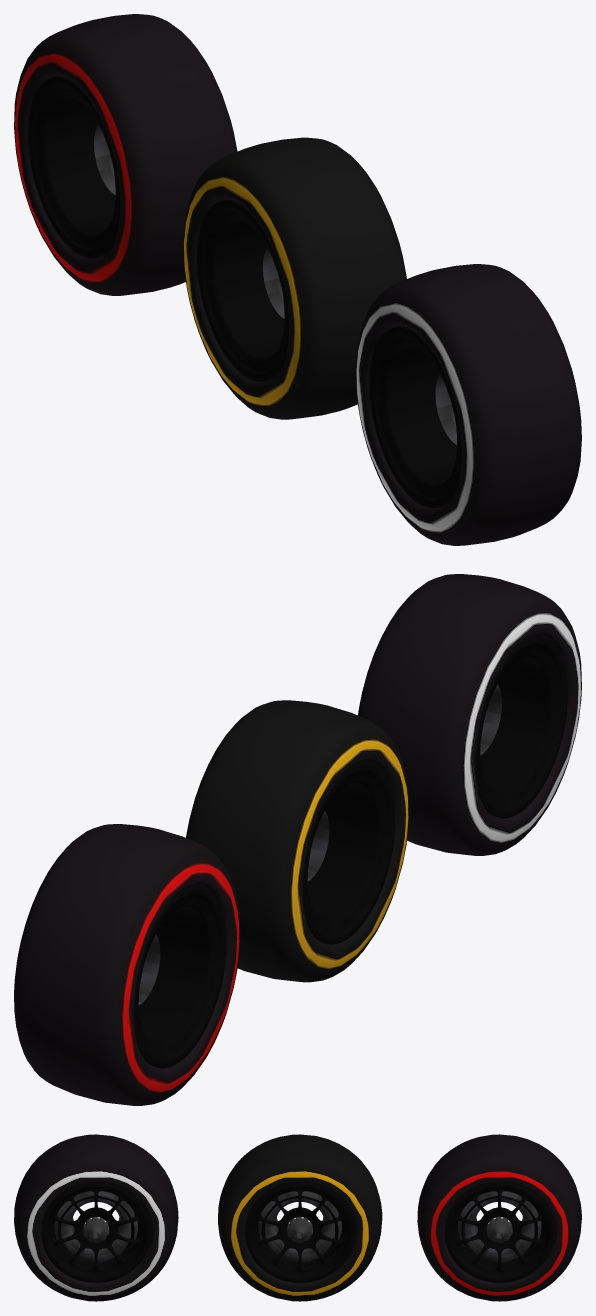
File: tyresO.glb
3 views of the same model, one above another, from view 1: azimuth 30°, elevation 25°; view 2: azimuth 150°, elevation 25°; view 3: azimuth 270°, elevation 25° (orthographic). The views are drawn at different scales.
Visible parts, largest first — view 1: Front Wheels.003_1, Front Wheels.002_0, Front Wheels.004_2; view 2: Front Wheels.004_2, Front Wheels.003_1, Front Wheels.002_0; view 3: Front Wheels.004_2, Front Wheels.002_0, Front Wheels.003_1.
Part boxes in pixels (box(x1,y1,x2,y2)): Front Wheels.003_1: box(355, 264, 581, 545); Front Wheels.002_0: box(183, 137, 406, 419); Front Wheels.004_2: box(14, 14, 237, 295); Front Wheels.004_2: box(14, 824, 240, 1105); Front Wheels.003_1: box(358, 574, 581, 855); Front Wheels.002_0: box(186, 700, 409, 982); Front Wheels.004_2: box(417, 1134, 581, 1301); Front Wheels.002_0: box(218, 1134, 382, 1301); Front Wheels.003_1: box(14, 1134, 178, 1301).
Size of the model in its own units: 0.3466 by 0.7178 by 2.48.
7 materials, 4 textured.
